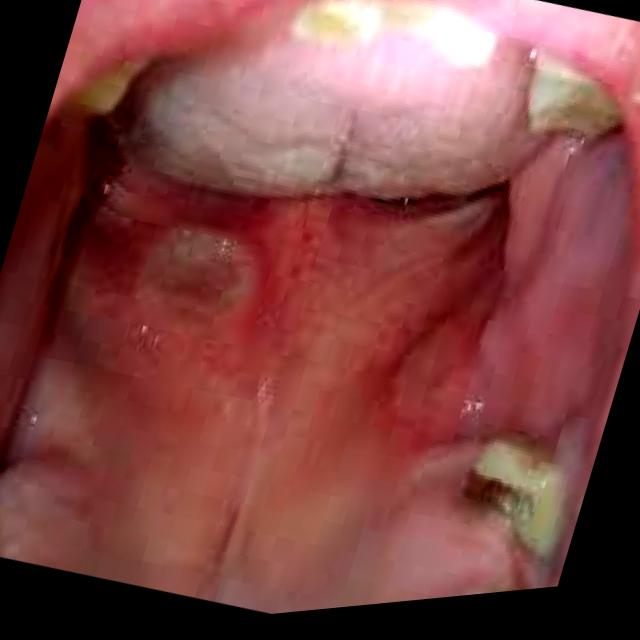ulcer: (93, 217, 259, 479)
